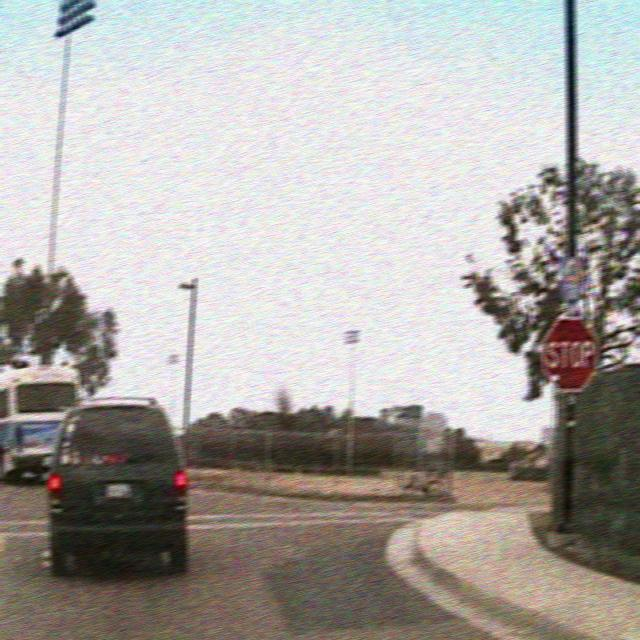stop_sign: (541, 315, 598, 392)
